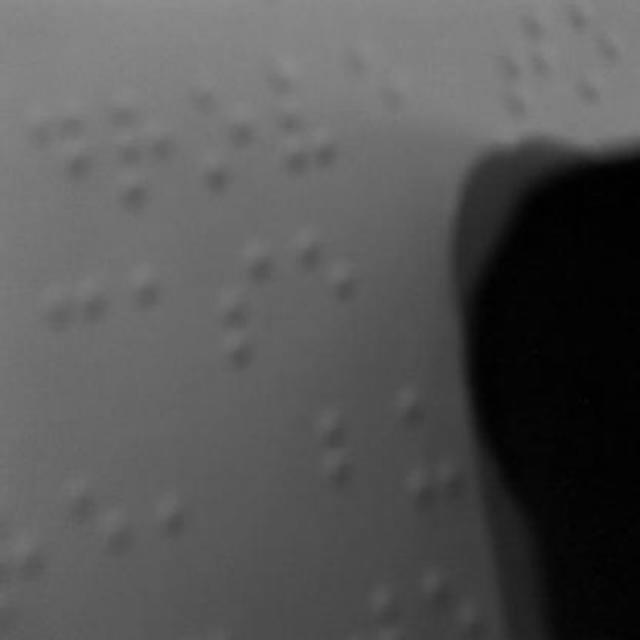braiile: (68, 469, 148, 615), (320, 401, 396, 544), (194, 62, 270, 200), (162, 446, 235, 586), (40, 268, 116, 402), (347, 32, 417, 166), (294, 212, 361, 352), (214, 233, 282, 369), (116, 89, 188, 215), (130, 255, 198, 381), (22, 94, 92, 216), (276, 44, 342, 172)
